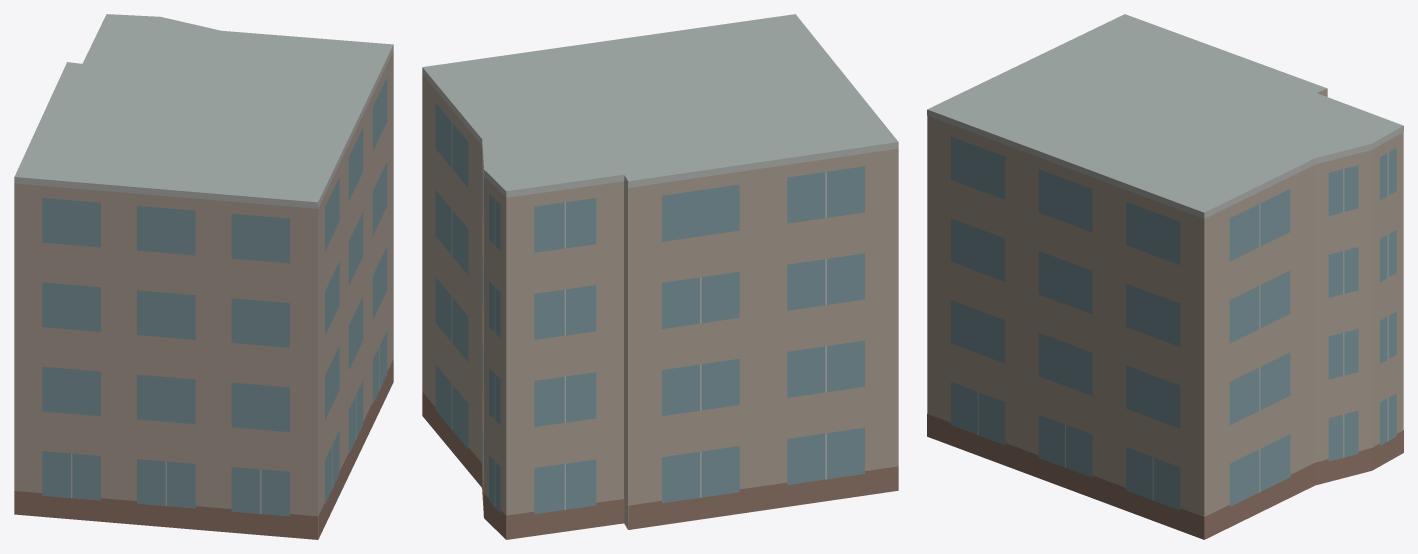
Rendered from survey-upis-32763520.glb.
The picture shows the model from 3 angles, left to right: view 1: azimuth 30°, elevation 25°; view 2: azimuth 150°, elevation 25°; view 3: azimuth 270°, elevation 25°; orthographic projection. The views are drawn at different scales.
Visible parts, largest first — view 1: survey-upis-32763520.tmp; view 2: survey-upis-32763520.tmp; view 3: survey-upis-32763520.tmp.
Part boxes in pixels (x1=…): survey-upis-32763520.tmp: x1=14, y1=14, x2=393, y2=539; survey-upis-32763520.tmp: x1=422, y1=14, x2=898, y2=539; survey-upis-32763520.tmp: x1=927, y1=14, x2=1403, y2=539.
Bounding box in the file's own units: 16.69 × 12.8 × 16.91.
